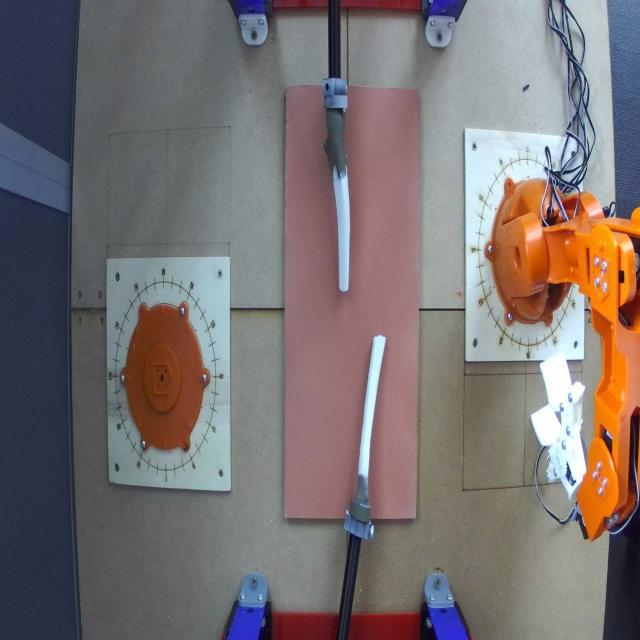bone: (348, 330, 392, 482), (326, 165, 357, 299)
